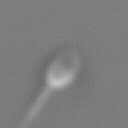normal: (16, 85, 51, 128)
